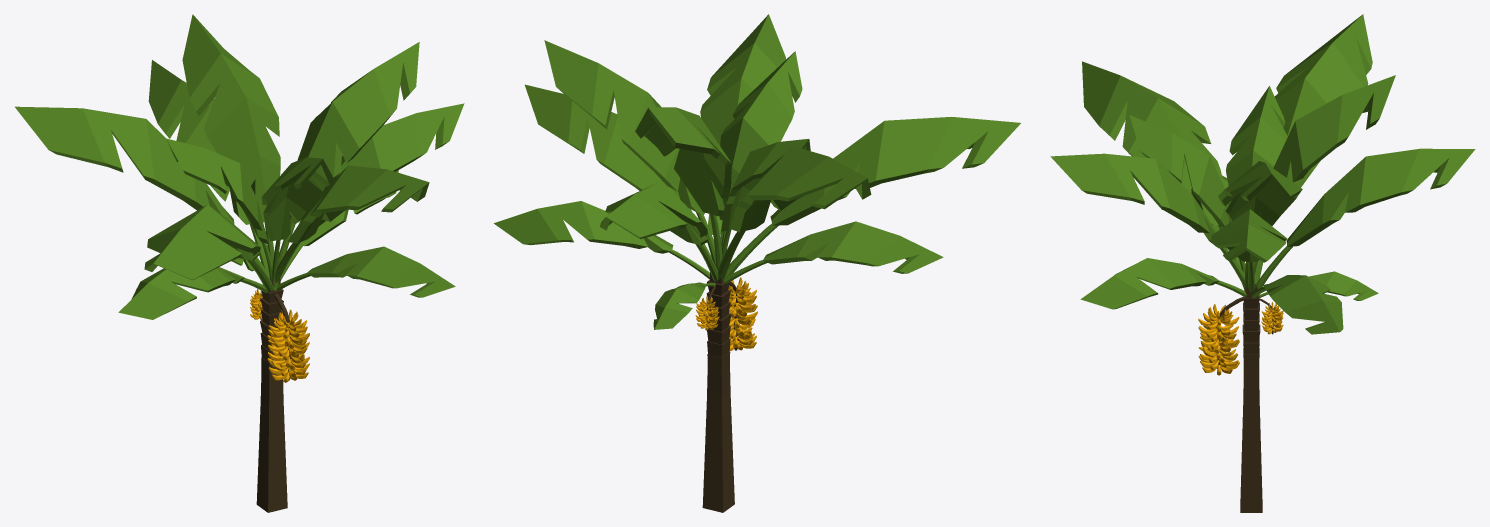
Rendered from bananatree.glb.
3 views of the same model, side by side, from view 1: azimuth 30°, elevation 25°; view 2: azimuth 150°, elevation 25°; view 3: azimuth 270°, elevation 25° (orthographic). The views are drawn at different scales.
Visible parts, largest first — view 1: Plane.183, Plane.190, Plane.184, Plane.189, Plane.195, Plane.188, Plane.187, Plane.193, Plane.182, Plane.185, Plane.186, Plane.194 (+1 smaller); view 2: Plane.189, Plane.184, Plane.195, Plane.183, Plane.190, Plane.187, Plane.185, Plane.194, Plane.188, Plane.192, Plane.182, Plane.186 (+1 smaller); view 3: Plane.182, Plane.189, Plane.190, Plane.188, Plane.183, Plane.195, Plane.185, Plane.193, Plane.186, Plane.184, Plane.192, Plane.187 (+1 smaller).
Boxes of the visible parts, x1,y1,x2,y2 form: Plane.183: [182, 14, 280, 222]; Plane.190: [15, 106, 234, 224]; Plane.184: [290, 42, 419, 223]; Plane.189: [144, 204, 260, 280]; Plane.195: [256, 278, 287, 512]; Plane.188: [287, 165, 429, 243]; Plane.187: [318, 103, 464, 226]; Plane.193: [306, 246, 455, 297]; Plane.182: [148, 60, 250, 224]; Plane.185: [261, 157, 334, 241]; Plane.186: [166, 138, 268, 244]; Plane.194: [118, 267, 244, 319]; Plane.189: [770, 117, 1020, 225]; Plane.184: [544, 40, 701, 212]; Plane.195: [702, 269, 734, 512]; Plane.183: [635, 107, 731, 216]; Plane.190: [730, 146, 871, 232]; Plane.187: [525, 84, 691, 211]; Plane.185: [719, 51, 802, 220]; Plane.194: [763, 221, 943, 273]; Plane.188: [700, 14, 786, 145]; Plane.192: [494, 201, 673, 253]; Plane.182: [600, 181, 708, 245]; Plane.186: [721, 139, 810, 231]; Plane.182: [1286, 148, 1475, 246]; Plane.189: [1082, 61, 1223, 225]; Plane.190: [1274, 14, 1372, 187]; Plane.188: [1050, 153, 1216, 244]; Plane.183: [1261, 75, 1395, 224]; Plane.195: [1240, 284, 1262, 512]; Plane.185: [1129, 115, 1230, 227]; Plane.193: [1080, 258, 1219, 309]; Plane.186: [1226, 86, 1287, 213]; Plane.184: [1218, 161, 1302, 225]; Plane.192: [1263, 275, 1343, 334]; Plane.187: [1211, 209, 1287, 262].
Bounding box in the file's own units: 10.04 × 10.67 × 9.56.
